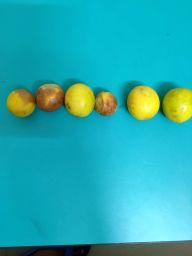lemon: (125, 85, 161, 121), (64, 83, 96, 119), (162, 87, 192, 123), (7, 88, 36, 119), (36, 83, 65, 112), (94, 90, 118, 117)
